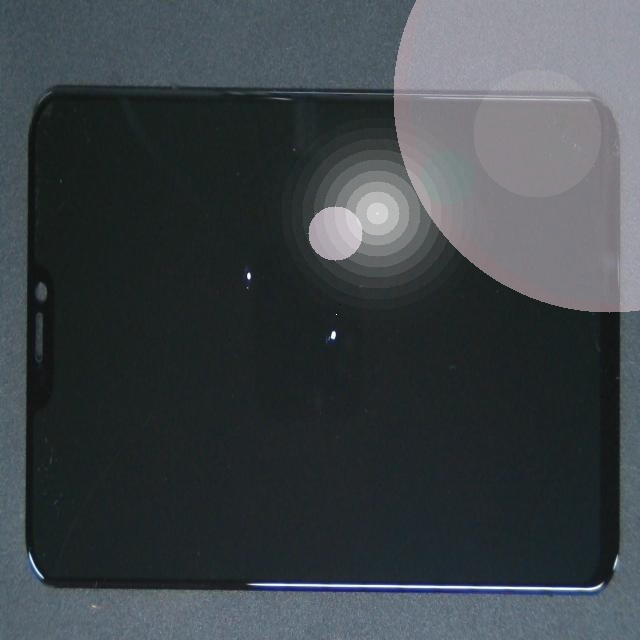stain: (155, 162, 485, 523), (80, 100, 371, 441)
